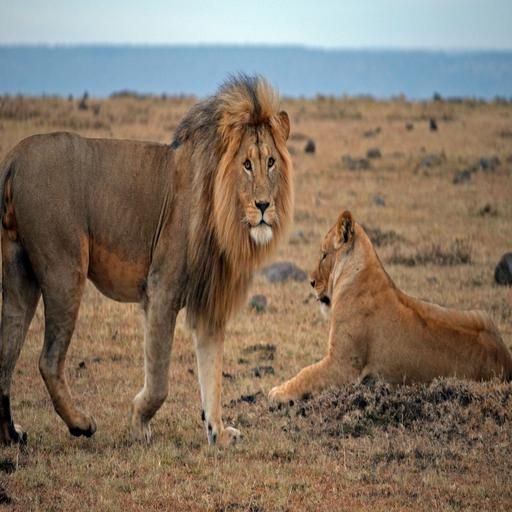Lion: (0, 66, 298, 468), (260, 201, 512, 419)
